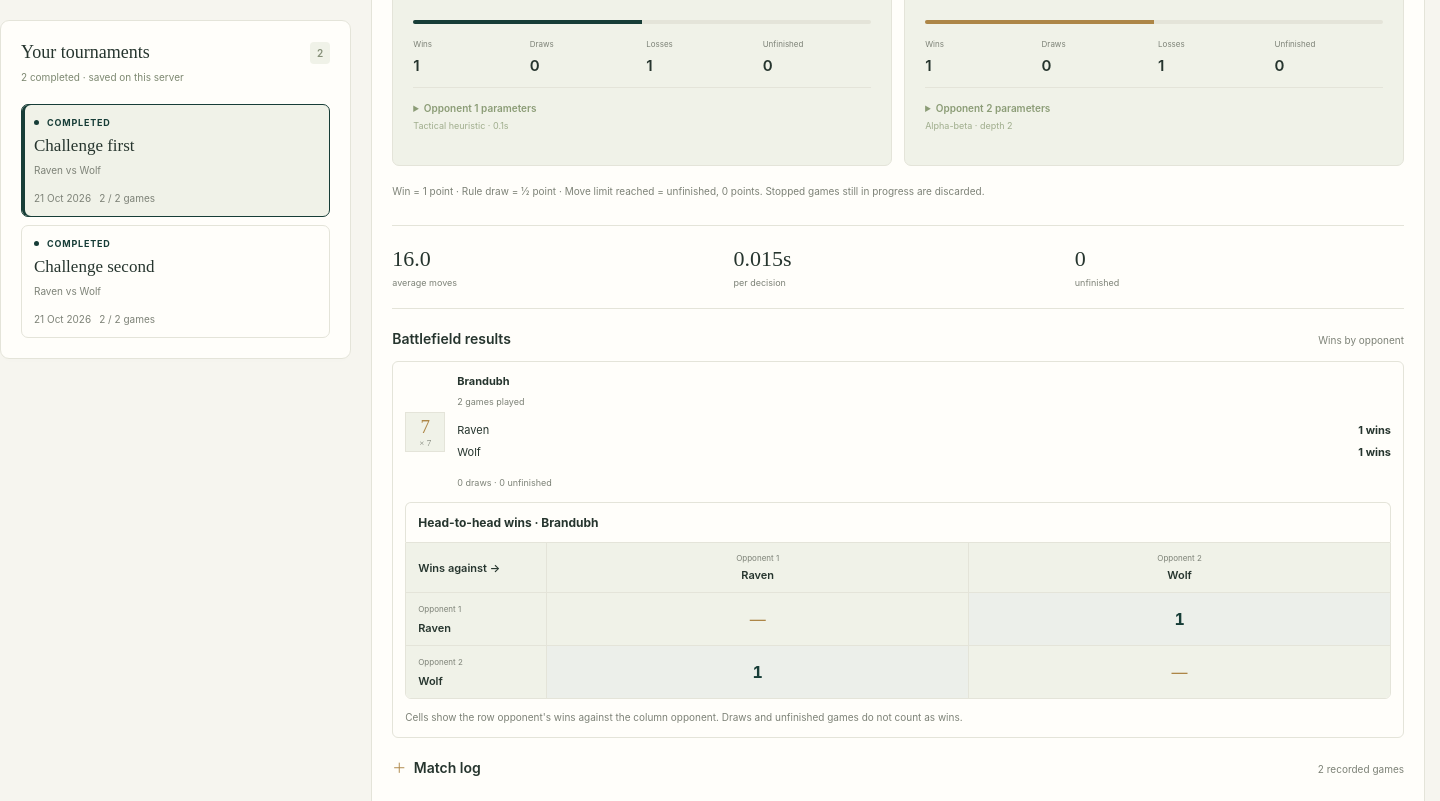
tournament match log disclosure › collapses the match log when a different tournament is selected
(page scrolled)
Click the button "＋ Match log".
click(437, 768)  # box left=392, top=758, right=481, bottom=777
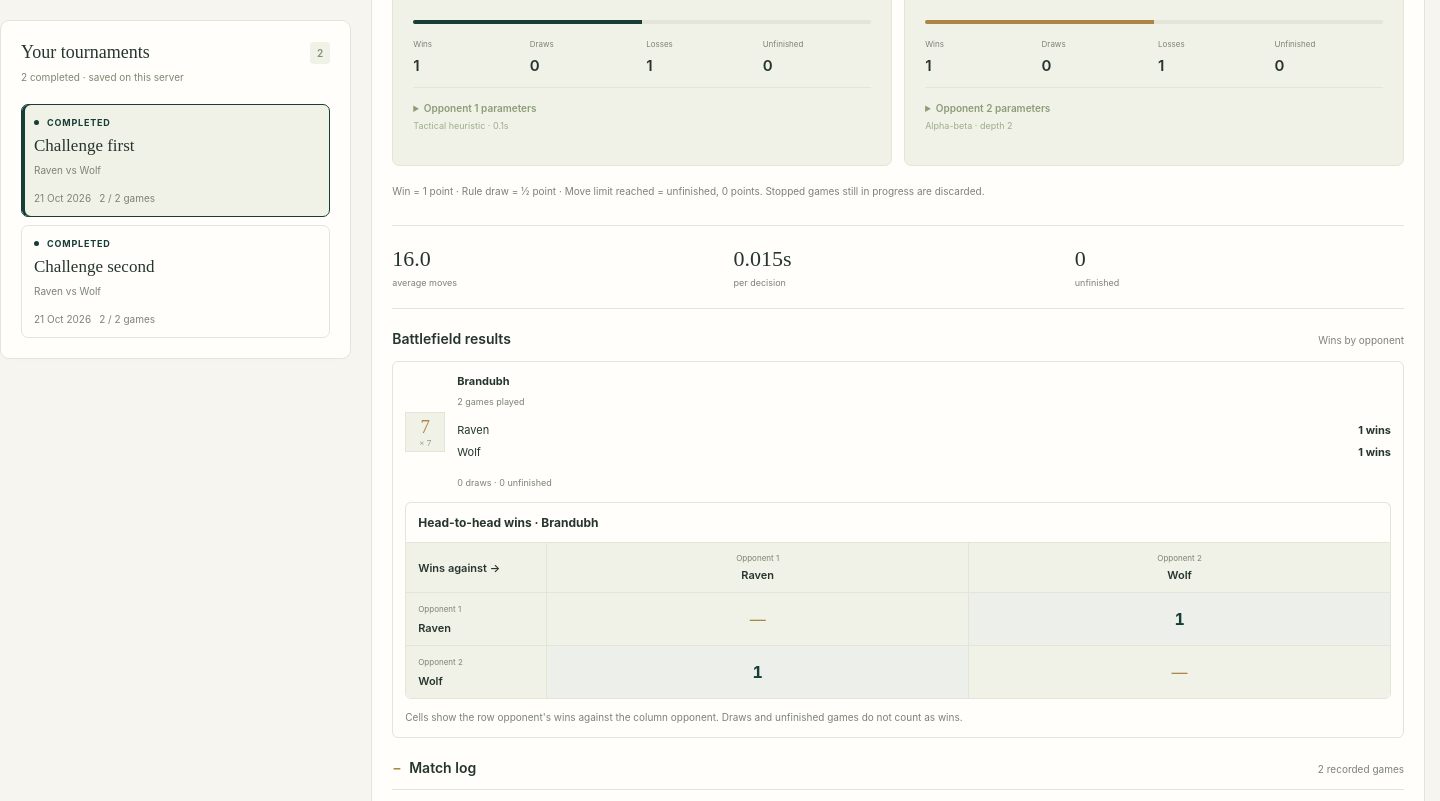
Check: the button "− Match log" is expanded, box left=392, top=758, right=476, bottom=777
Click the button with aria-label "View tournament Challenge second".
click(79, 244)  # box left=21, top=225, right=330, bottom=338
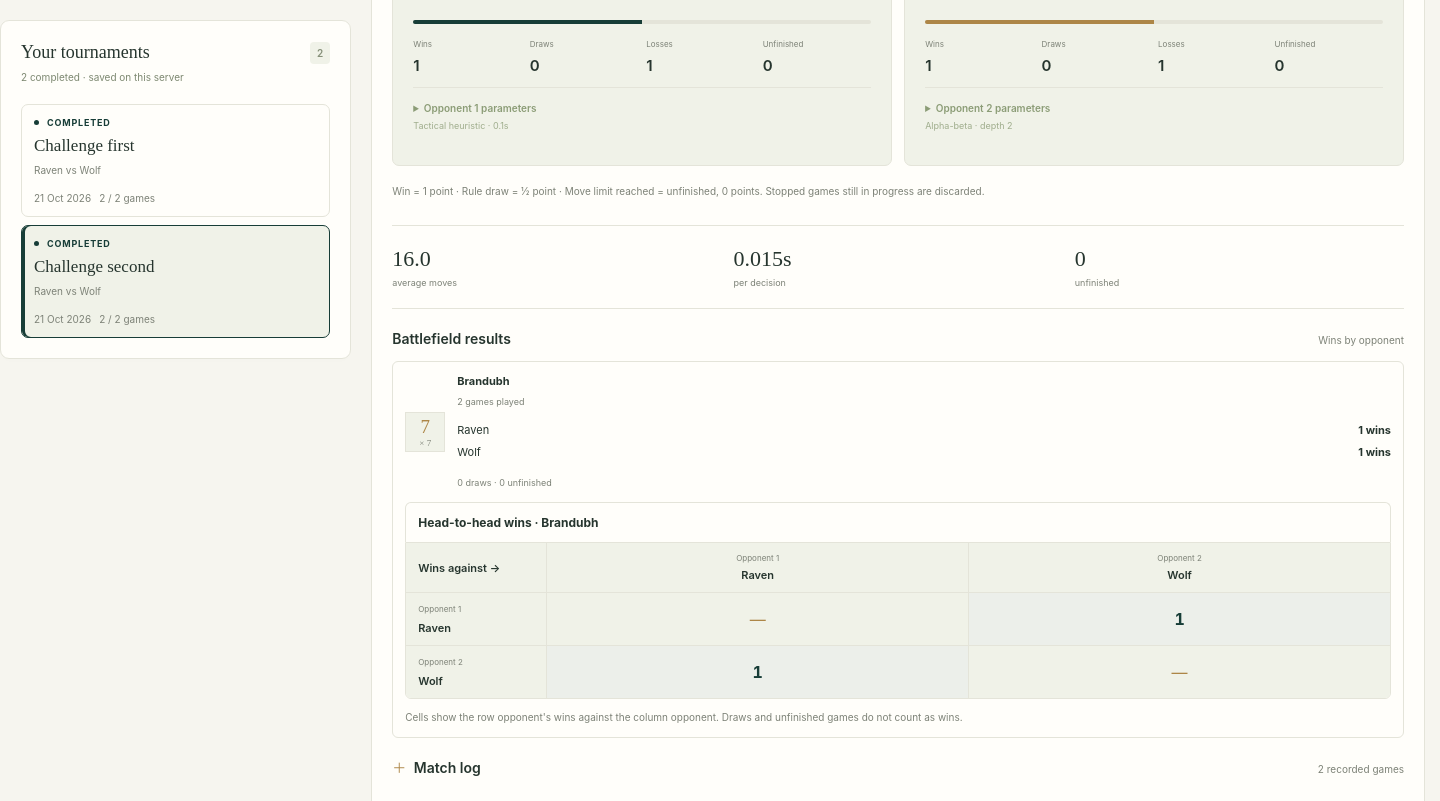
Check: the button "＋ Match log" is collapsed, box left=392, top=758, right=481, bottom=777
